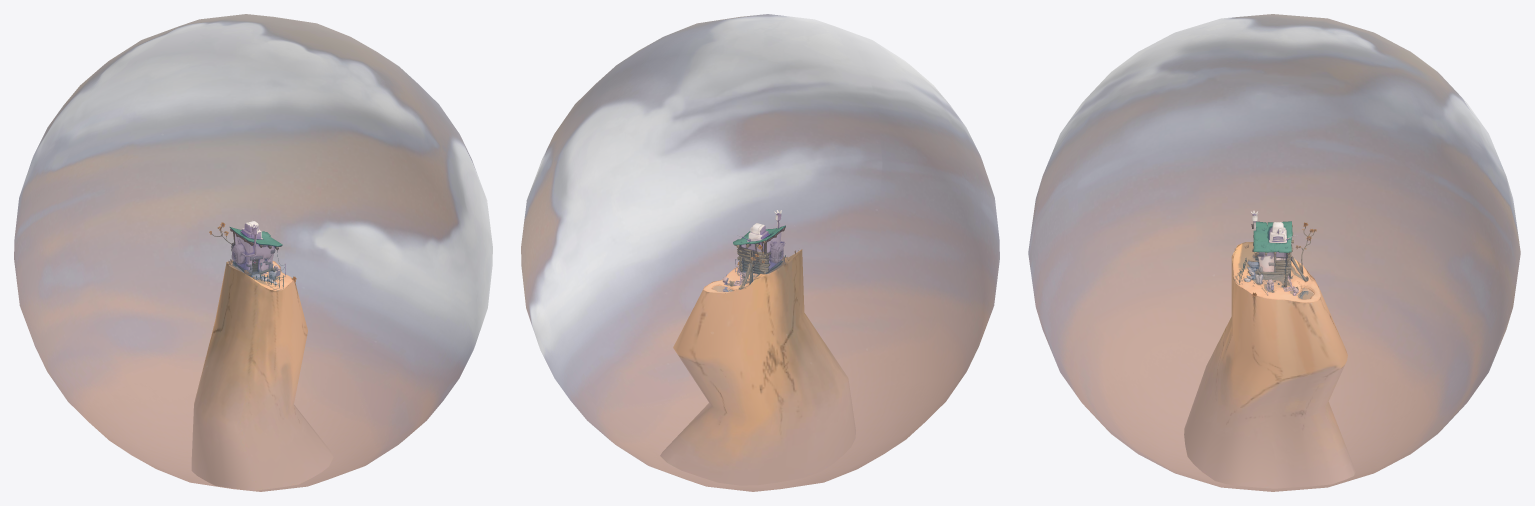
The model's file is cant.glb.
3 views of the same model, side by side, from view 1: azimuth 30°, elevation 25°; view 2: azimuth 150°, elevation 25°; view 3: azimuth 270°, elevation 25° (orthographic).
Parts seen in each view (by area): view 1: sky, ground002, parts, cabin, ground; view 2: sky, ground002, parts, cabin, ground; view 3: sky, ground002, ground, cabin, parts.
Part boxes in pixels (x1,y1,x2,y2): sky: (14,14,492,491); ground002: (191,262,333,490); parts: (212,220,285,288); cabin: (229,221,282,273); ground: (209,222,296,291); sky: (521,14,999,491); ground002: (660,249,855,485); parts: (722,210,785,287); cabin: (733,223,785,271); ground: (703,245,801,293); sky: (1028,14,1520,491); ground002: (1184,257,1355,488); ground: (1231,222,1320,303); cabin: (1253,221,1292,272); parts: (1239,210,1315,295).
Bounding box in the file's own units: 33.28 × 33.28 × 34.29.
Materials: 6 (4 with a texture image).
